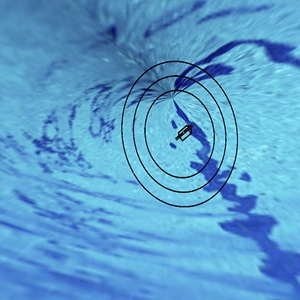circle: (106, 43, 252, 223)
submarine: (168, 114, 197, 149)
